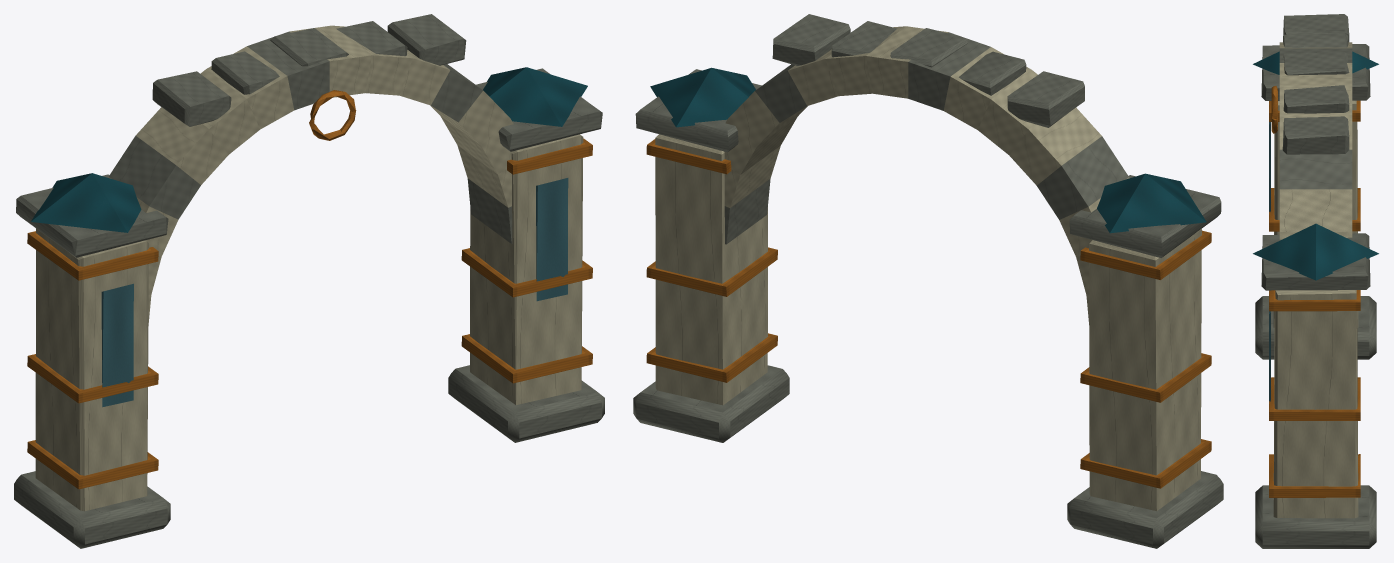
Rendered from Portao_da_cidade_LOD1.fbx.
The picture shows the model from 3 angles, left to right: view 1: azimuth 30°, elevation 25°; view 2: azimuth 150°, elevation 25°; view 3: azimuth 270°, elevation 25°; orthographic projection. The views are drawn at different scales.
Visible parts, largest first — view 1: Portao_da_cidade_LOD1; view 2: Portao_da_cidade_LOD1; view 3: Portao_da_cidade_LOD1.
Boxes of the visible parts, bbox=[...] form: Portao_da_cidade_LOD1: bbox=[14, 14, 604, 548]; Portao_da_cidade_LOD1: bbox=[633, 14, 1223, 548]; Portao_da_cidade_LOD1: bbox=[1253, 14, 1378, 548].
Bounding box in the file's own units: 950 × 685 × 210.
1 material, 1 textured.
